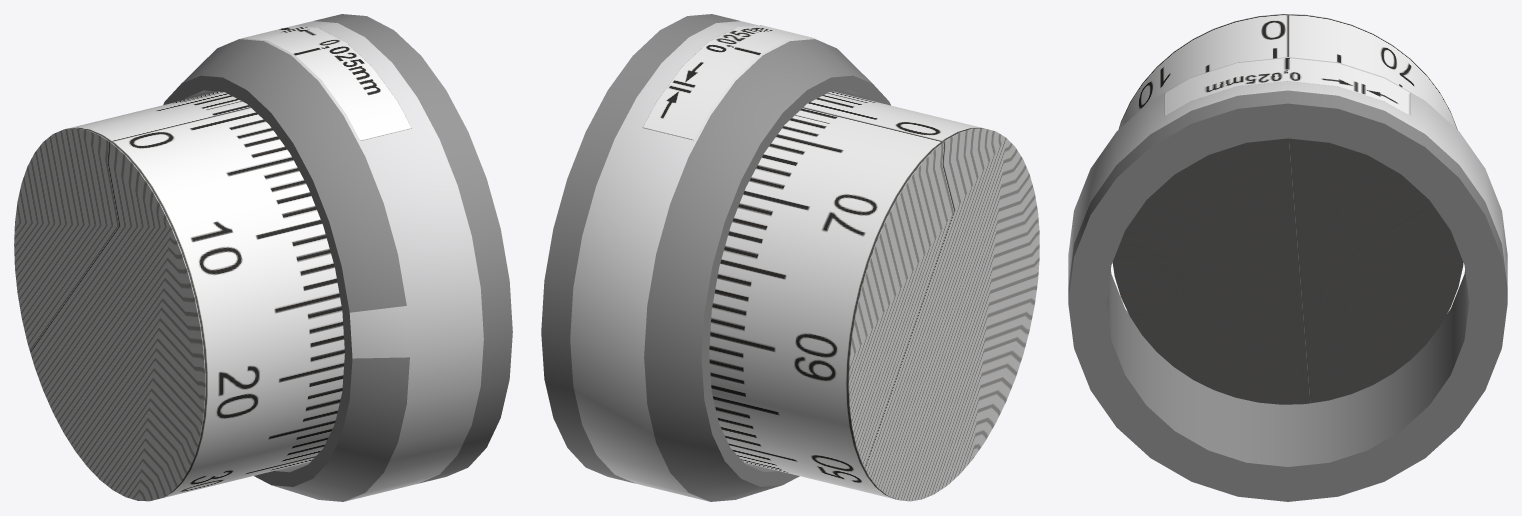
File: ЛИМБ И НОНИУС.FBX
3 renders of one model, left to right at view 1: azimuth 30°, elevation 25°; view 2: azimuth 150°, elevation 25°; view 3: azimuth 270°, elevation 25°, orthographic. The views are drawn at different scales.
Visible parts, largest first — view 1: ЛИМБ, НОНИУС; view 2: ЛИМБ, НОНИУС; view 3: НОНИУС, ЛИМБ.
Part boxes in pixels (x1,y1,x2,y2): ЛИМБ: [14, 91, 344, 501]; НОНИУС: [163, 14, 512, 501]; ЛИМБ: [709, 91, 1039, 501]; НОНИУС: [541, 14, 890, 501]; НОНИУС: [1068, 57, 1507, 501]; ЛИМБ: [1112, 14, 1463, 404].
Bounding box in the file's own units: 6.93 × 10.03 × 10.02.
5 materials, 2 textured.
